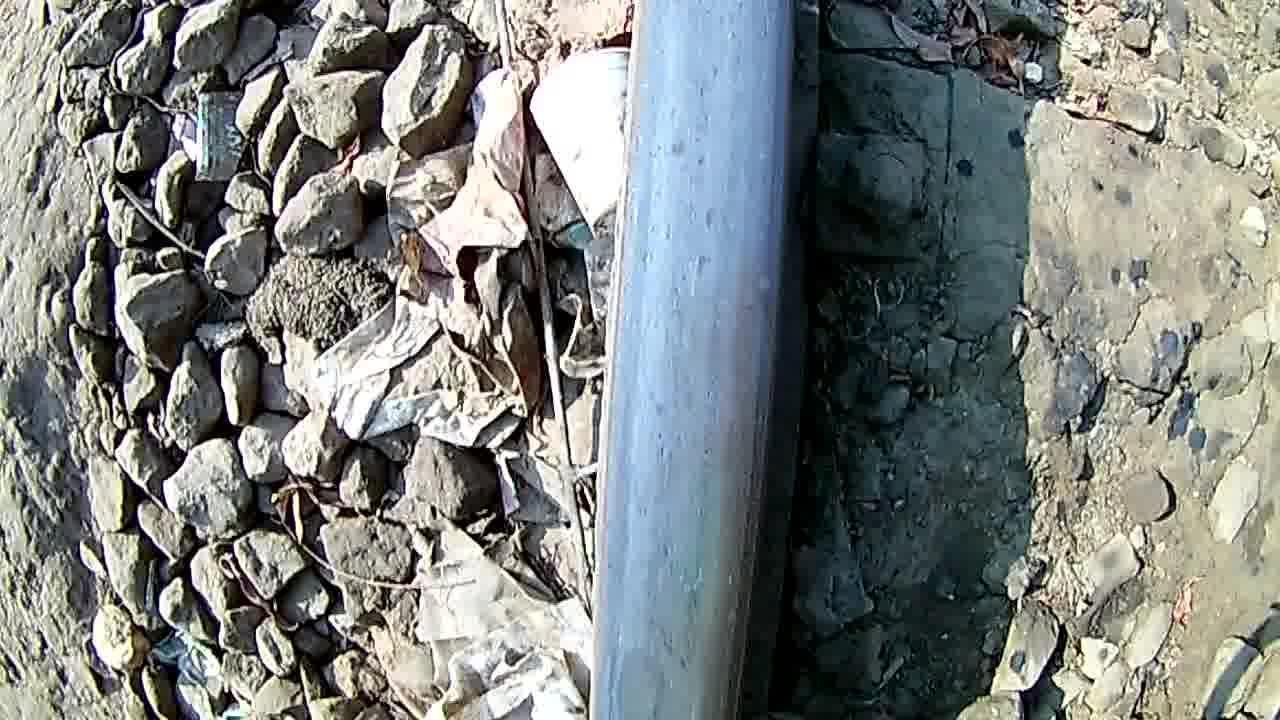crack: (589, 516, 760, 720)
